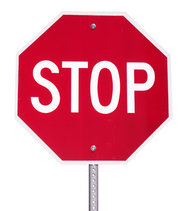stop: (16, 14, 170, 164), (17, 15, 138, 165), (18, 15, 172, 120), (77, 15, 171, 164), (17, 80, 171, 165), (90, 15, 169, 120)
